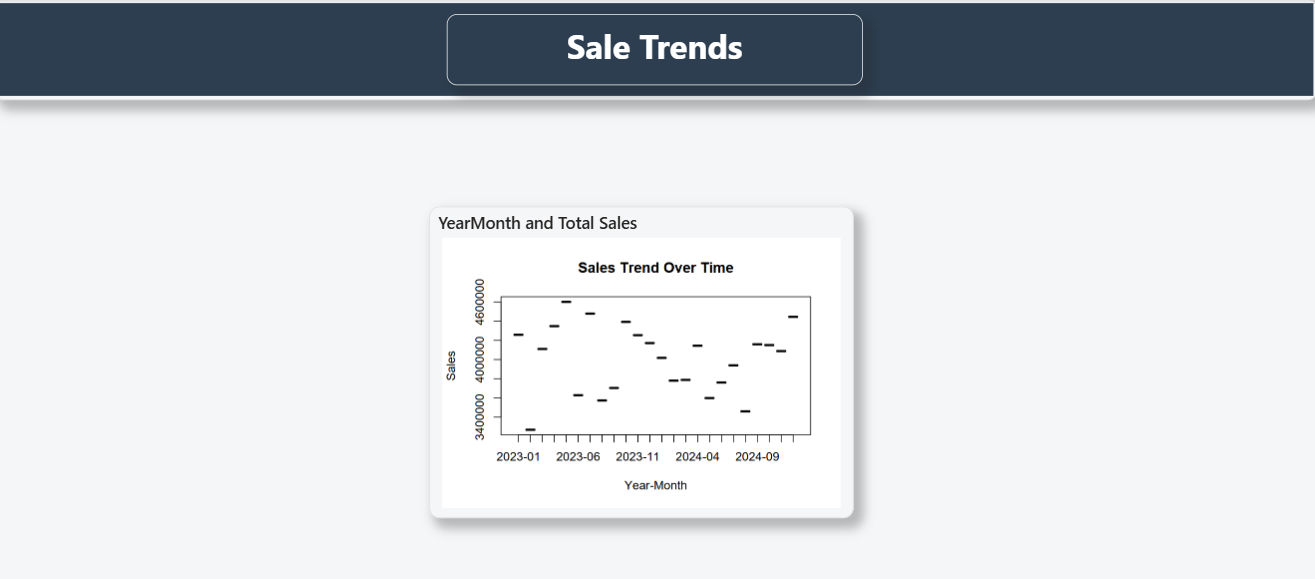

The dashboard page shown, as its layout file describes it:
{"tool":"powerbi","page":{"name":"Sales Trends","canvas":[1280,720],"ordinal":3},"visuals":[{"type":"scriptVisual","fields":{"Values":["DimDate.YearMonth","FactSales.Total Sales"]},"box":[420.9,200.9,409.4,300.6],"z":0},{"type":"shape","box":[0,0,1278.8,97.5],"z":1000},{"type":"textbox","box":[437.9,14.5,401.7,68.8],"z":2000}]}

Visuals, with their boxes on the page's 1280x720 design canvas (x1, y1, x2, y2). These are canvas units, not pixel positions in the 1315x579 screenshot, which may show the page scaled, cropped or inside an application window:
scriptVisual - DimDate.YearMonth x FactSales.Total Sales: 421, 201, 830, 502
shape: 0, 0, 1279, 98
textbox: 438, 14, 840, 83
